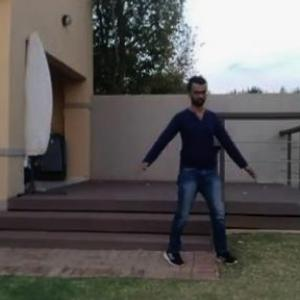land: (136, 83, 251, 272)
